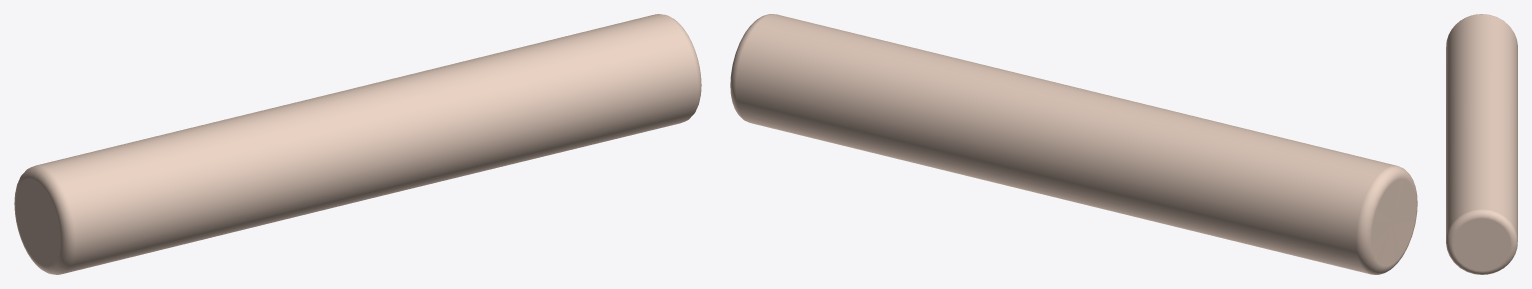
Rendered from Body4.dae.
3 renders of one model, left to right at view 1: azimuth 30°, elevation 25°; view 2: azimuth 150°, elevation 25°; view 3: azimuth 270°, elevation 25°, orthographic. The views are drawn at different scales.
Parts seen in each view (by area): view 1: Body4; view 2: Body4; view 3: Body4.
Boxes of the visible parts, box(x1,y1,x2,y2) form: Body4: box(14, 14, 701, 274); Body4: box(730, 14, 1417, 274); Body4: box(1446, 14, 1517, 274).
Bounding box in the file's own units: 3.3 × 0.4998 × 0.5.
